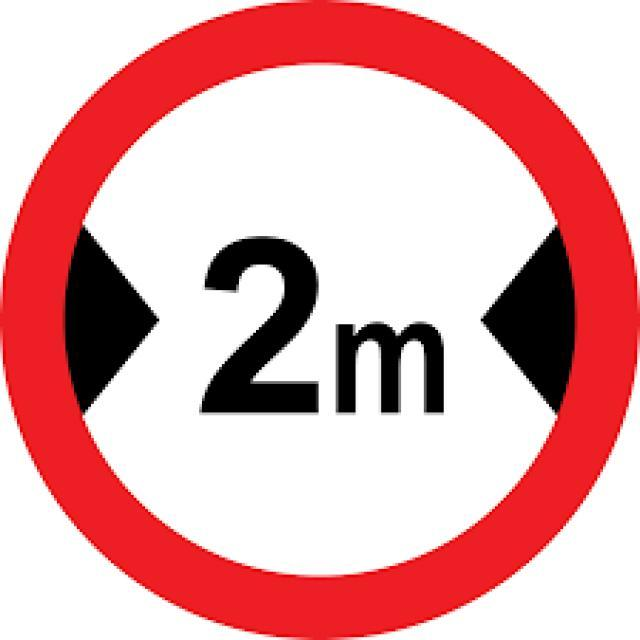width limit: (23, 22, 620, 616)
